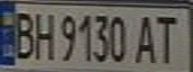0: (106, 11, 130, 64)
1: (75, 11, 93, 62)
3: (90, 11, 112, 63)
9: (54, 10, 78, 62)
A: (133, 11, 160, 64)
B: (9, 7, 36, 61)
H: (30, 8, 57, 61)
T: (151, 11, 187, 65)
